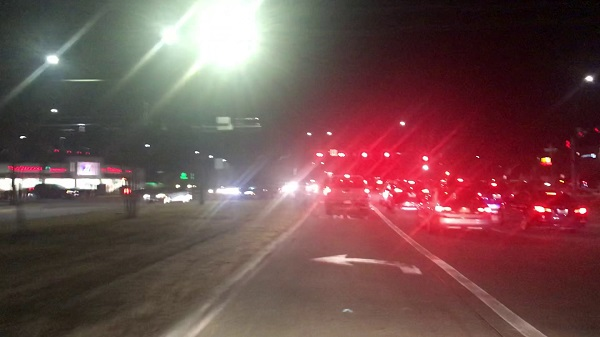car: (504, 191, 586, 230), (413, 190, 489, 227), (143, 185, 193, 207), (389, 187, 431, 213)
truck: (325, 174, 372, 212)
